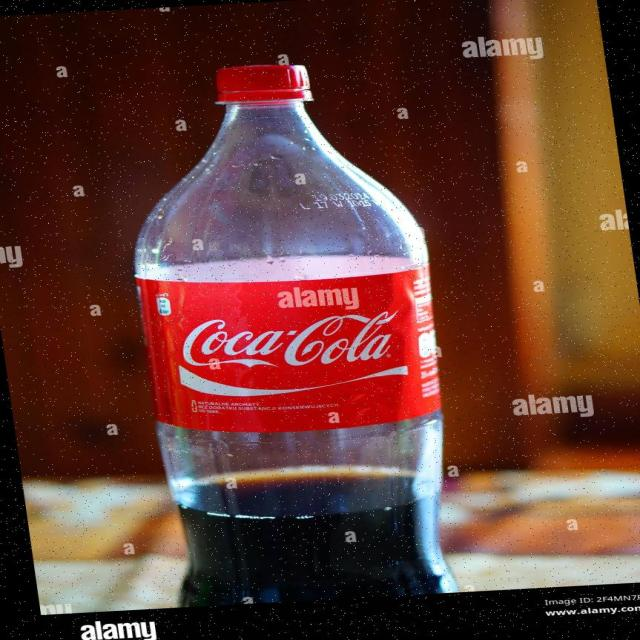coca-cola: (100, 43, 475, 613)
